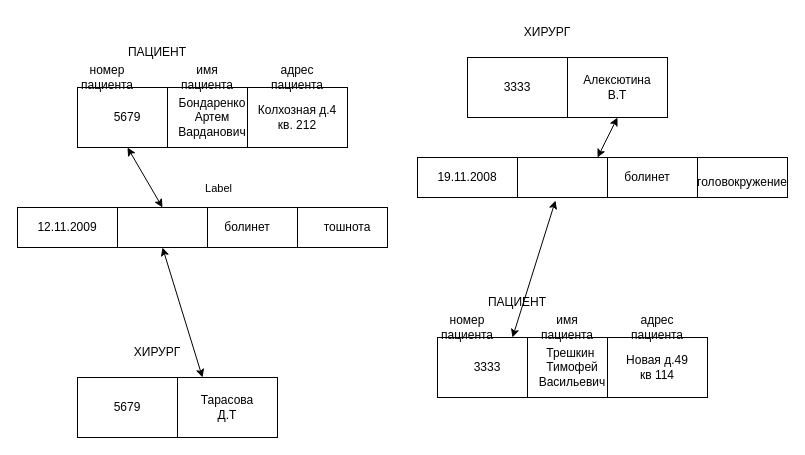
This 805x455 diagram has some shape labels left out. The shapes that lost their labels are listed below. From the top down, each one's centre as x and y in pixels, then its label:
At [562,177]: "операция на сердце".
At [162,227]: "операция на желудке".
